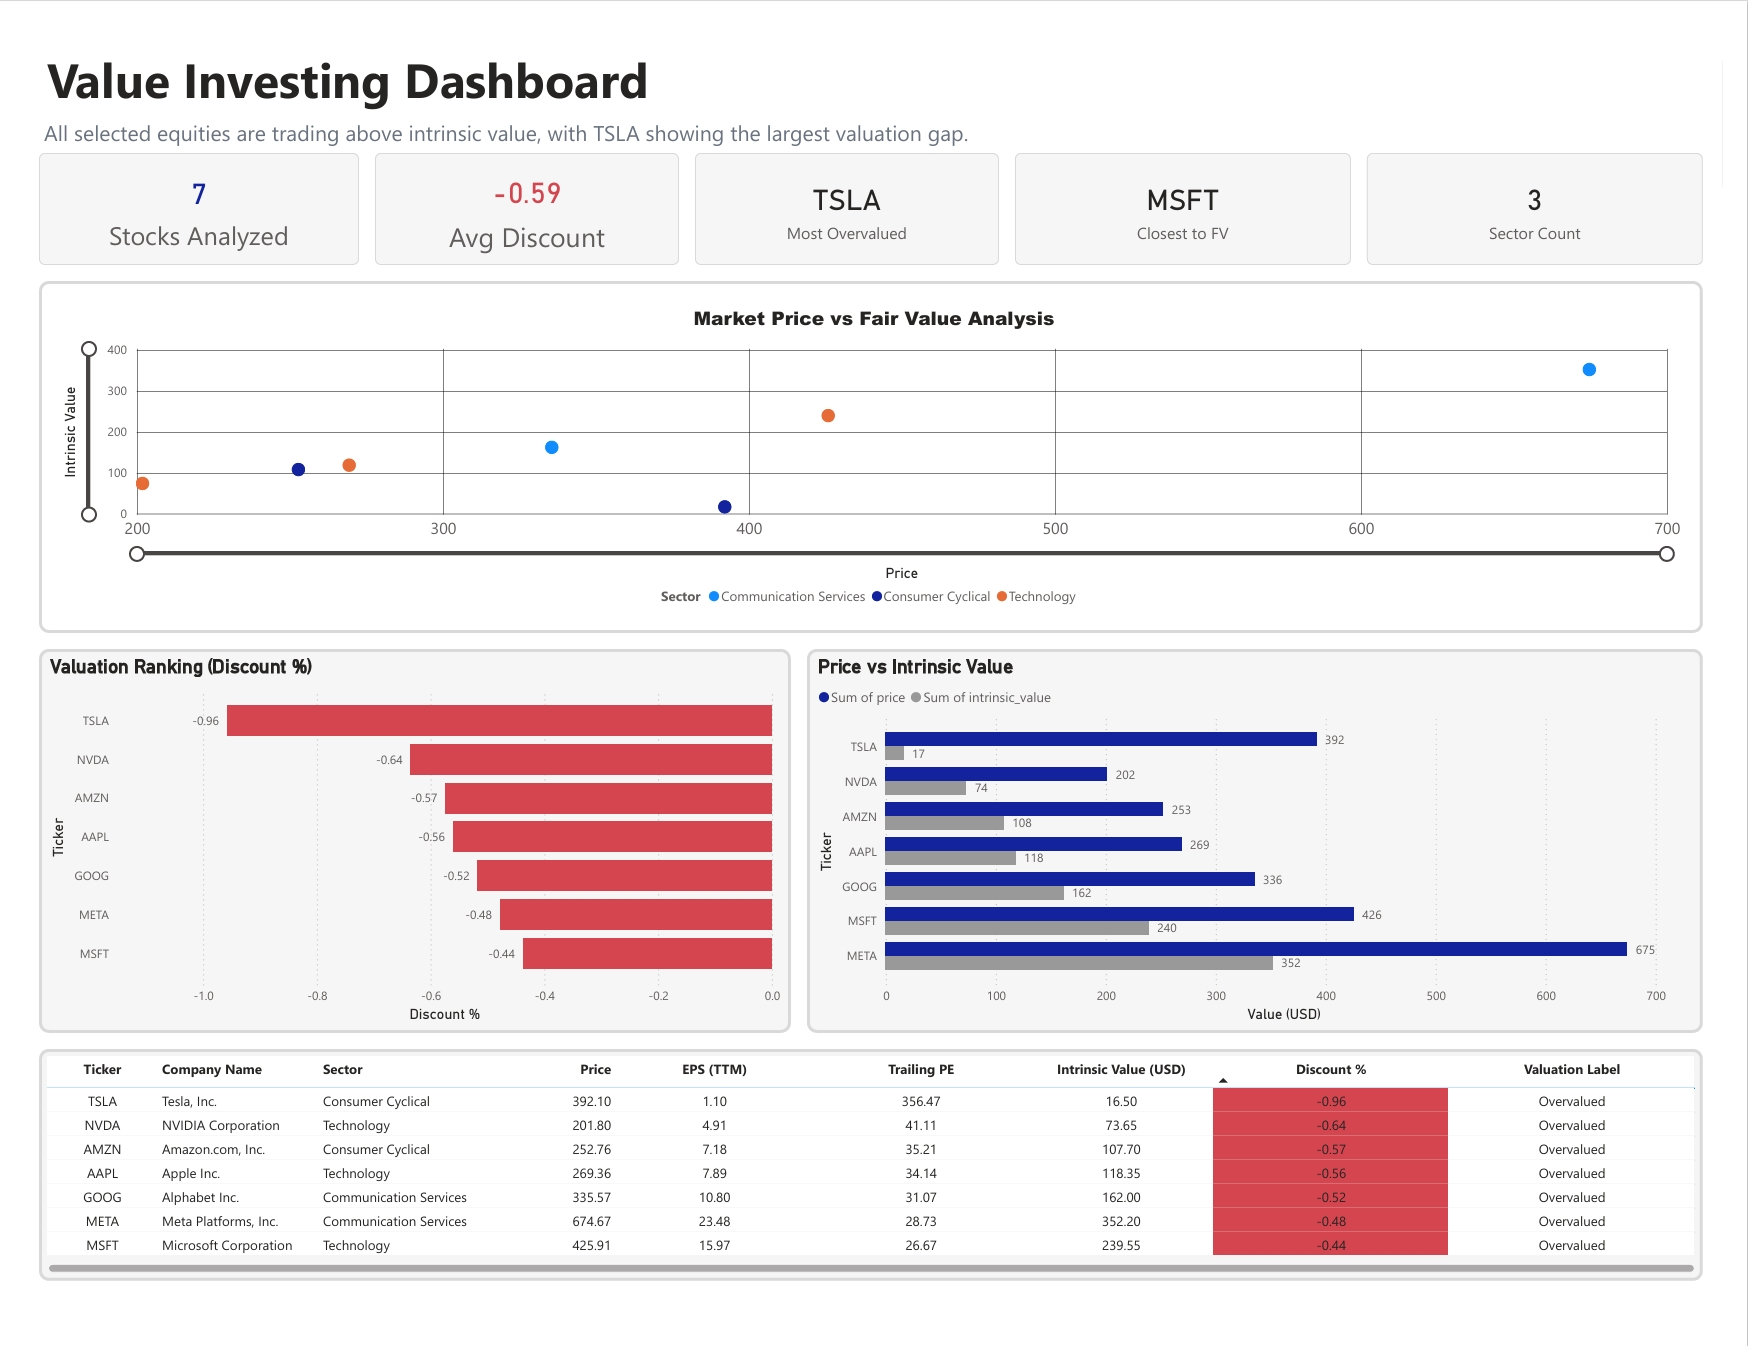

The dashboard page shown, as its layout file describes it:
{"tool":"powerbi","page":{"name":"Page 1","canvas":[1700,1300],"ordinal":0},"visuals":[{"type":"tableEx","fields":{"Values":["value_investing_dashboard_data.ticker","value_investing_dashboard_data.company_name","value_investing_dashboard_data.sector","value_investing_dashboard_data.price","value_investing_dashboard_data.eps_ttm","value_investing_dashboard_data.trailing_pe","value_investing_dashboard_data.intrinsic_value","Sum(value_investing_dashboard_data.margin_of_safety_pct)","value_investing_dashboard_data.valuation_label"]},"box":[16,1024,1664,232],"z":0},{"type":"scatterChart","title":"Market Price vs Fair Value Analysis","fields":{"Series":["value_investing_dashboard_data.sector"],"Y":["value_investing_dashboard_data.intrinsic_value"],"X":["value_investing_dashboard_data.price"]},"box":[16,256,1664,352],"z":1000},{"type":"barChart","title":"Valuation Ranking (Discount %)","fields":{"Category":["value_investing_dashboard_data.ticker"],"Y":["Sum(value_investing_dashboard_data.margin_of_safety_pct)"]},"box":[16,624,752,384],"z":2000},{"type":"clusteredBarChart","title":"Price vs Intrinsic Value","fields":{"Category":["value_investing_dashboard_data.ticker"],"Y":["Sum(value_investing_dashboard_data.price)","Sum(value_investing_dashboard_data.intrinsic_value)"]},"box":[784,624,896,384],"z":3000},{"type":"textbox","box":[19,16,642,85],"z":4000},{"type":"textbox","box":[16,88,1520,40],"z":5000},{"type":"card","fields":{"Values":["value_investing_dashboard_data.Sector Count"]},"box":[1344,128,336,112],"z":6000},{"type":"card","fields":{"Values":["value_investing_dashboard_data.Closest to FV"]},"box":[992,128,336,112],"z":7000},{"type":"card","fields":{"Values":["value_investing_dashboard_data.Most Overvalued"]},"box":[672,128,304,112],"z":8000},{"type":"card","fields":{"Values":["value_investing_dashboard_data.Avg Discount"]},"box":[352,128,304,112],"z":9000},{"type":"card","fields":{"Values":["value_investing_dashboard_data.Stocks Analyzed"]},"box":[16,128,320,112],"z":10000}]}

Visuals, with their boxes in screenshot pixels (x1, y1, x2, y2), scaled from the page's 1700x1300 canvas onto the 1748x1346 screenshot:
tableEx - value_investing_dashboard_data.ticker x value_investing_dashboard_data.company_name: BBox(16, 1060, 1727, 1300)
"Market Price vs Fair Value Analysis" scatterChart: BBox(16, 265, 1727, 630)
"Valuation Ranking (Discount %)" barChart: BBox(16, 646, 790, 1044)
"Price vs Intrinsic Value" clusteredBarChart: BBox(806, 646, 1727, 1044)
textbox: BBox(20, 17, 680, 105)
textbox: BBox(16, 91, 1579, 133)
card - value_investing_dashboard_data.Sector Count: BBox(1382, 133, 1727, 248)
card - value_investing_dashboard_data.Closest to FV: BBox(1020, 133, 1365, 248)
card - value_investing_dashboard_data.Most Overvalued: BBox(691, 133, 1004, 248)
card - value_investing_dashboard_data.Avg Discount: BBox(362, 133, 675, 248)
card - value_investing_dashboard_data.Stocks Analyzed: BBox(16, 133, 345, 248)
